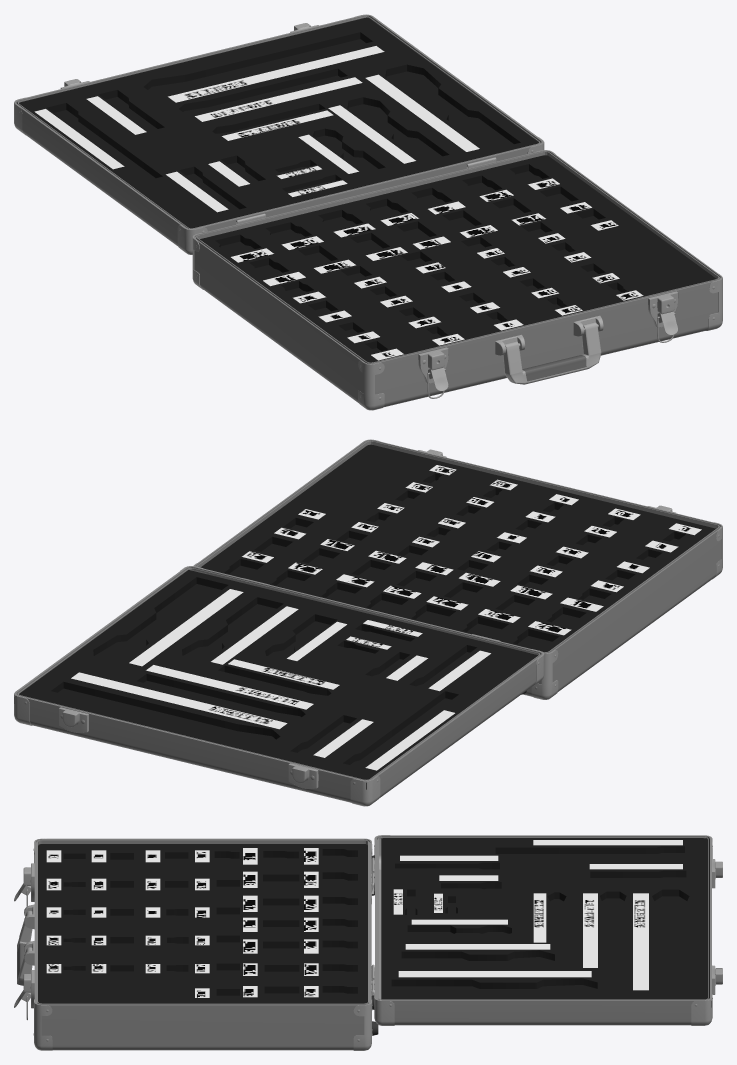
The model's file is GJX_ALL_V1.FBX.
3 views of the same model, one above another, from view 1: azimuth 30°, elevation 25°; view 2: azimuth 150°, elevation 25°; view 3: azimuth 270°, elevation 25° (orthographic). The views are drawn at different scales.
Parts seen in each view (by area): view 1: gongjuxiang_ban2 (×2), gongjuxiang_ban (×2), gongjuxiang_down, gongjuxiang_wenzi, gongjuxiang_up; view 2: gongjuxiang_ban2 (×2), gongjuxiang_ban (×2), gongjuxiang_wenzi, gongjuxiang_up, gongjuxiang_down; view 3: gongjuxiang_ban2 (×2), gongjuxiang_ban (×2), gongjuxiang_down, gongjuxiang_wenzi, gongjuxiang_up.
Boxes of the visible parts, x1=… form: gongjuxiang_ban2 (×2): x1=200, y1=155, x2=716, y2=362; gongjuxiang_ban (×2): x1=17, y1=17, x2=538, y2=228; gongjuxiang_down: x1=192, y1=150, x2=722, y2=410; gongjuxiang_wenzi: x1=34, y1=46, x2=643, y2=360; gongjuxiang_up: x1=14, y1=14, x2=544, y2=254; gongjuxiang_ban2 (×2): x1=200, y1=444, x2=715, y2=651; gongjuxiang_ban (×2): x1=14, y1=570, x2=538, y2=789; gongjuxiang_wenzi: x1=71, y1=465, x2=701, y2=770; gongjuxiang_up: x1=14, y1=566, x2=544, y2=806; gongjuxiang_down: x1=193, y1=439, x2=722, y2=699; gongjuxiang_ban2 (×2): x1=38, y1=844, x2=367, y2=1003; gongjuxiang_ban (×2): x1=381, y1=838, x2=711, y2=1007; gongjuxiang_down: x1=14, y1=838, x2=378, y2=1050; gongjuxiang_wenzi: x1=46, y1=840, x2=682, y2=997; gongjuxiang_up: x1=371, y1=835, x2=722, y2=1025.
Bounding box in the file's own units: 53.69 × 96.42 × 7.95.
